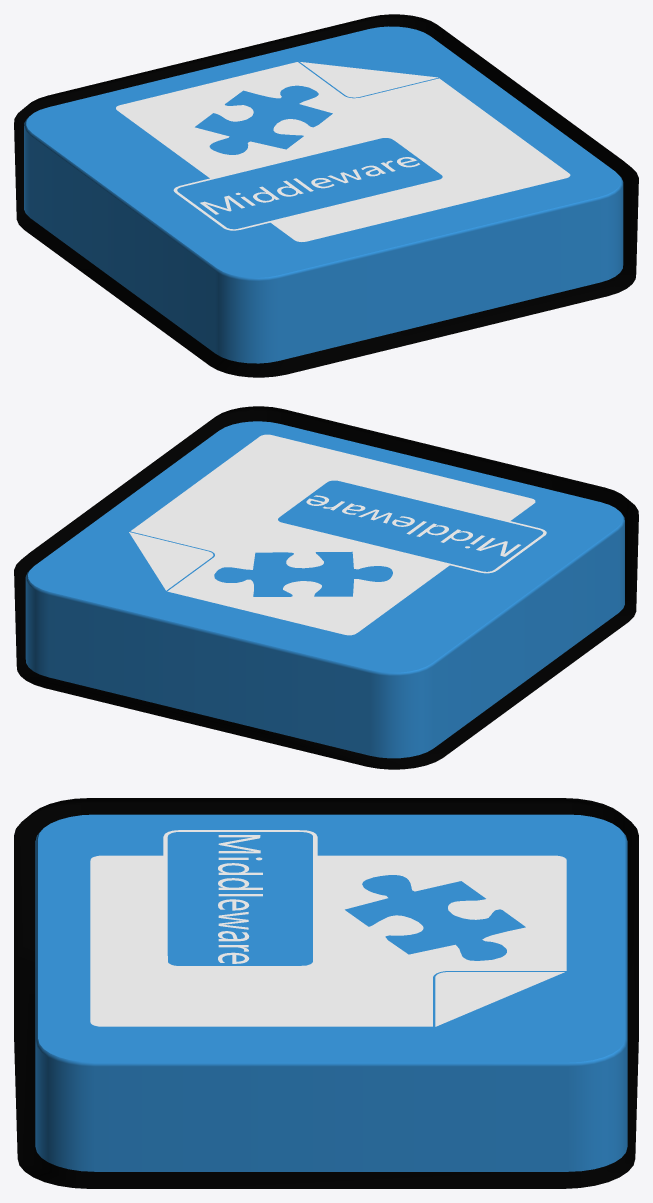
File: MiddlewareInst.obj
The picture shows the model from 3 angles, top to bottom: view 1: azimuth 30°, elevation 25°; view 2: azimuth 150°, elevation 25°; view 3: azimuth 270°, elevation 25°; orthographic projection. The views are drawn at different scales.
Visible parts, largest first — view 1: MiddlewareInst; view 2: MiddlewareInst; view 3: MiddlewareInst.
Boxes of the visible parts, <box> form: MiddlewareInst: <box>14,14,638,377</box>; MiddlewareInst: <box>14,406,638,769</box>; MiddlewareInst: <box>14,798,638,1188</box>.
Bounding box in the file's own units: 1.06 × 0.2484 × 1.06.
